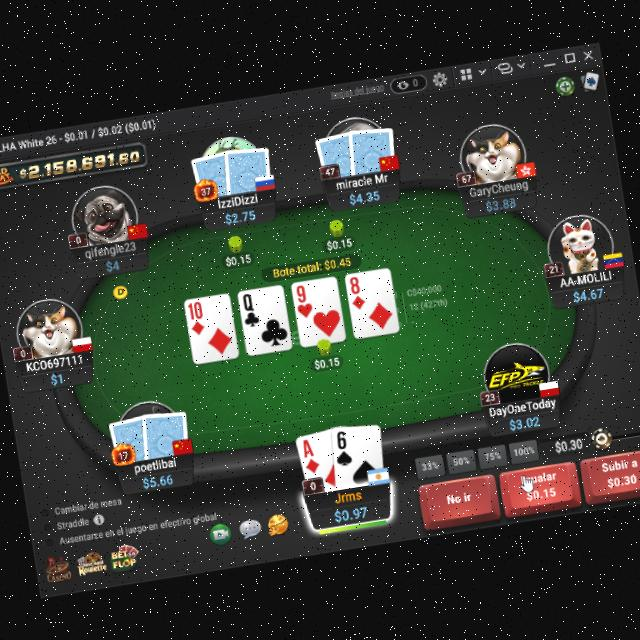6s: (332, 428, 356, 468)
8d: (346, 274, 368, 310)
9h: (292, 281, 317, 319)
Ad: (298, 436, 322, 476)
Qc: (240, 292, 262, 330)
Td: (185, 298, 209, 338)
bet_text: (311, 354, 343, 374), (224, 250, 254, 268), (326, 236, 355, 252)
card_back: (137, 404, 195, 466), (219, 140, 278, 199), (344, 121, 400, 177), (188, 148, 240, 204), (106, 414, 158, 468), (311, 128, 360, 183)
dealer: (110, 282, 130, 300)
hero_active: (415, 444, 640, 532)
pot_text: (271, 252, 354, 279)
stack_text: (330, 501, 370, 526), (482, 193, 520, 215), (222, 206, 258, 229), (140, 470, 178, 490), (571, 284, 606, 304), (507, 412, 542, 432), (346, 187, 382, 206), (104, 255, 122, 274), (48, 370, 68, 387)
